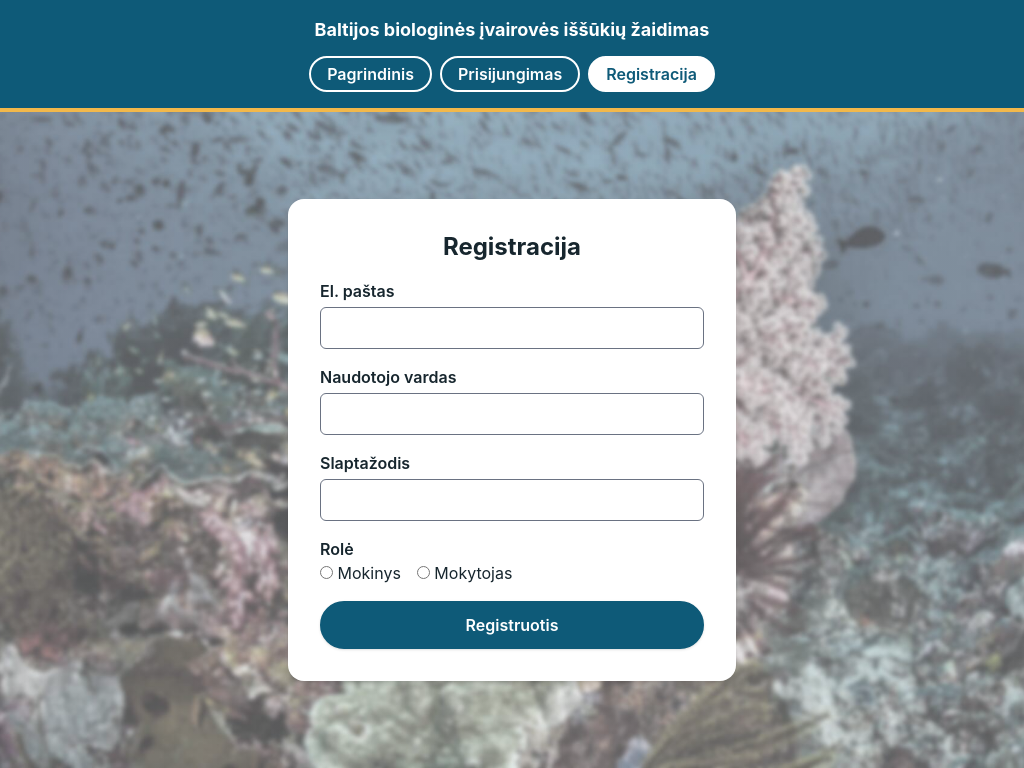
RegisterPage › 409 for email shows server emailRegistered message and keeps email but clears password
Type "a@b.com" into the field labelled "El. paštas" at [512, 328], box [320,307,704,349]
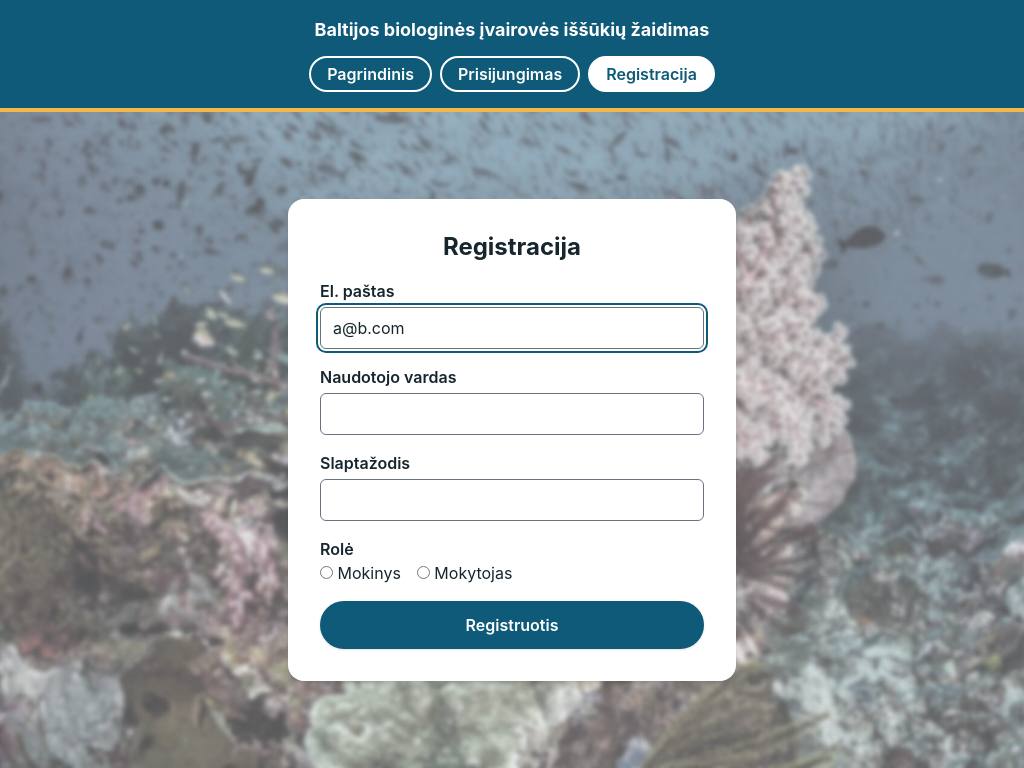
Type "user1" into the field labelled "Naudotojo vardas" at [512, 414], box [320,393,704,435]
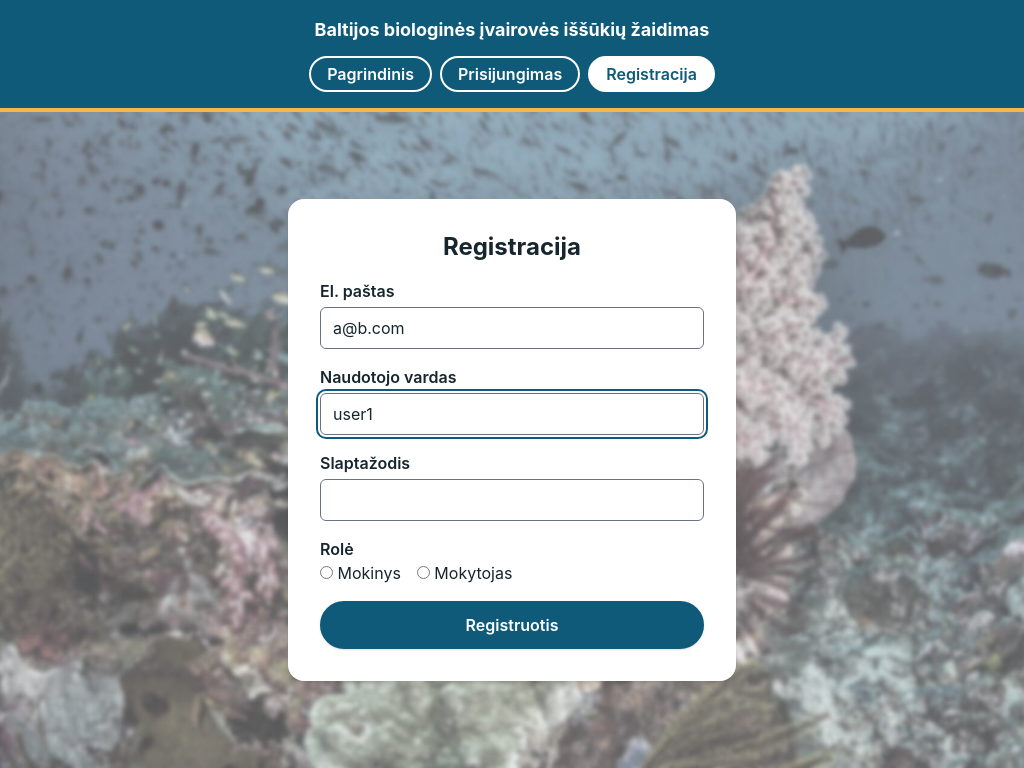
Type "Password123" into the password field labelled "Slaptažodis" at [512, 500], box [320,479,704,521]
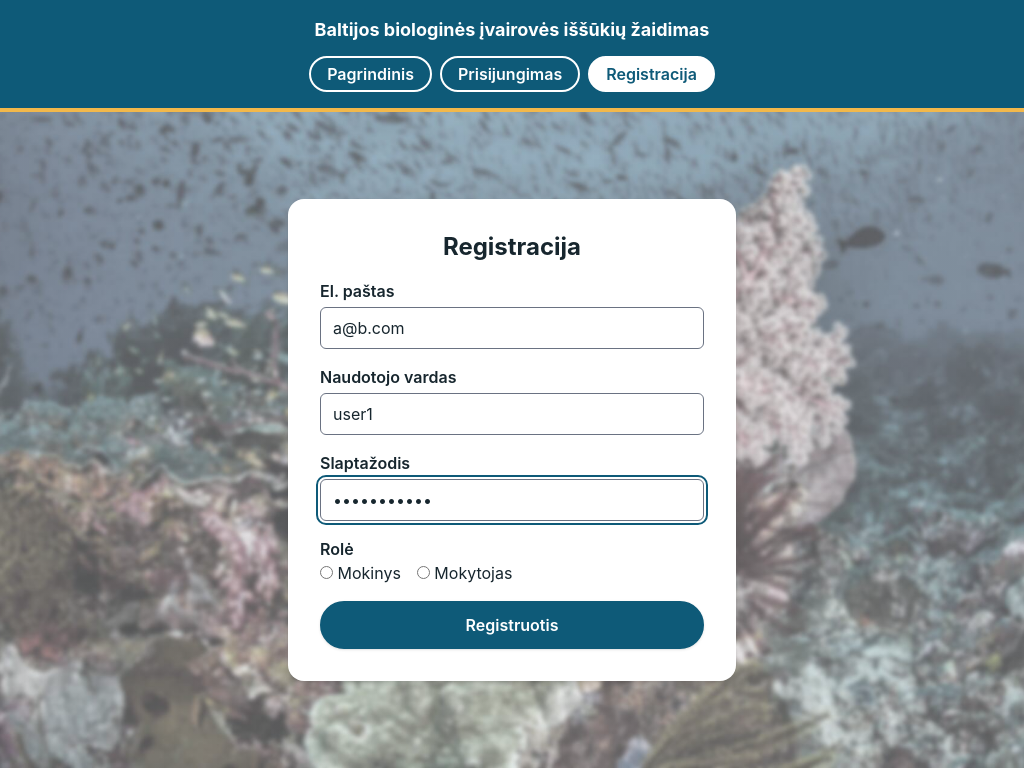
Click the radio button labelled "Mokinys" at [326, 572], box [320,566,333,579]
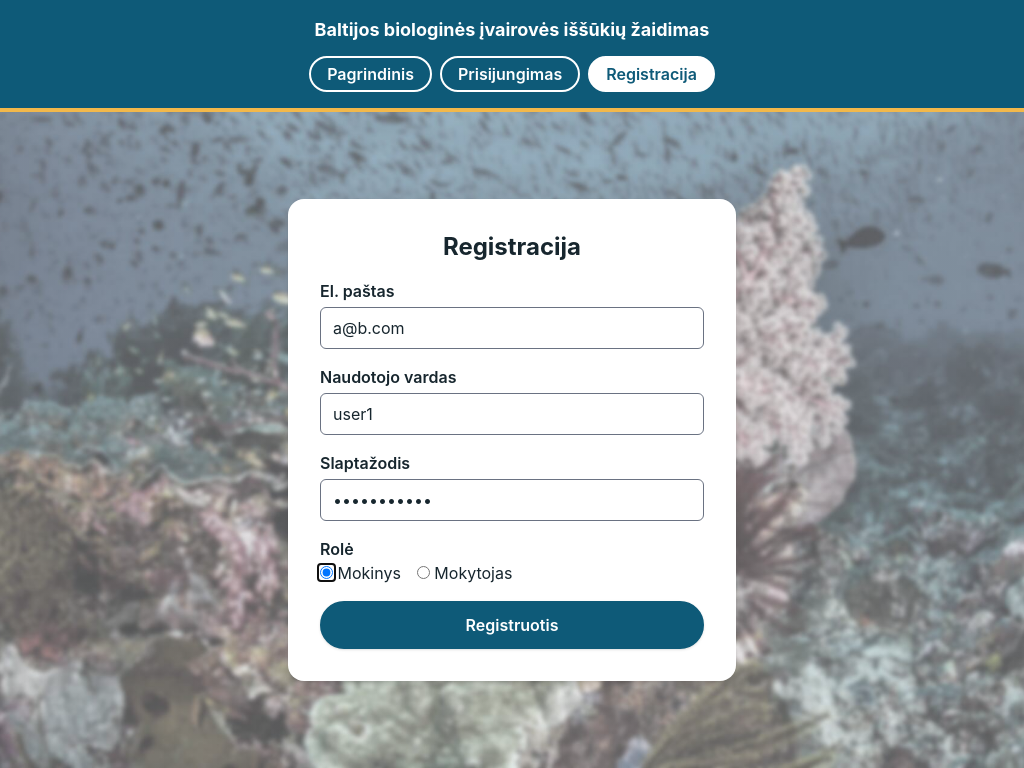
Click the button "Registruotis" at [512, 625], box [320,601,704,649]
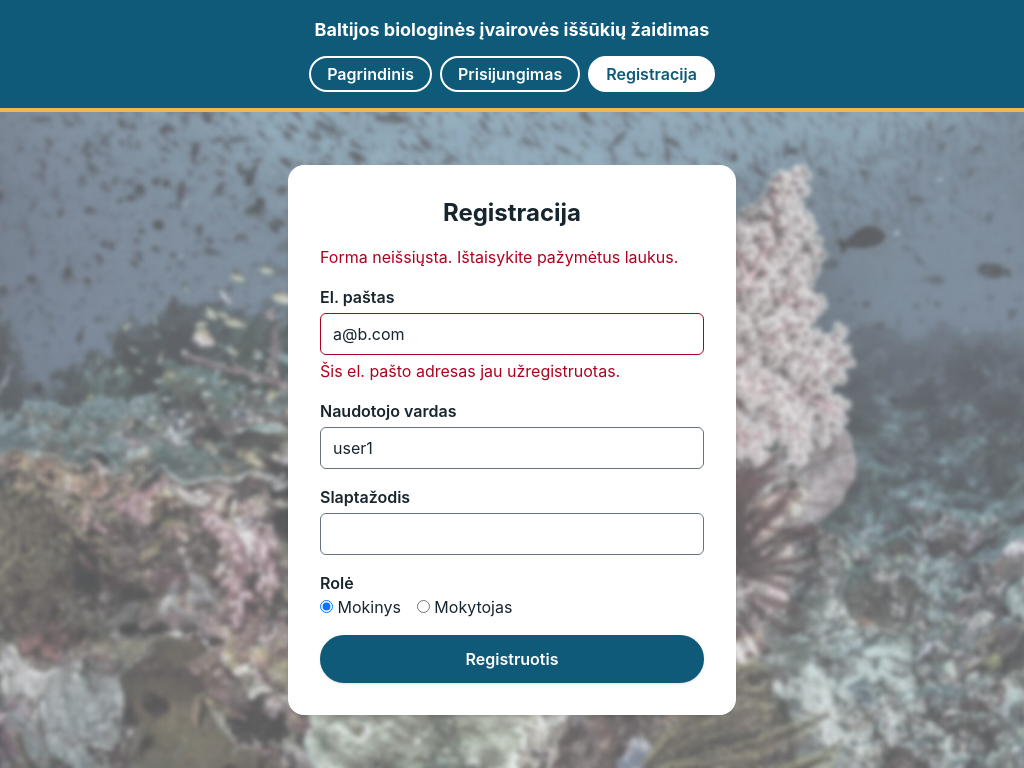
Expected: the text "Šis el. pašto adresas jau užregistruotas." is shown, [320,361,620,381]
Expected: the password field labelled "Slaptažodis" is empty, [320,513,704,555]
